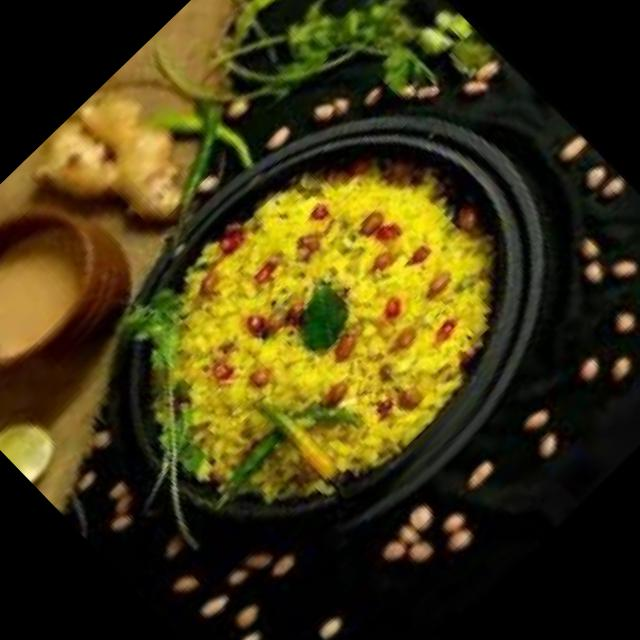poha: (85, 94, 562, 570)
